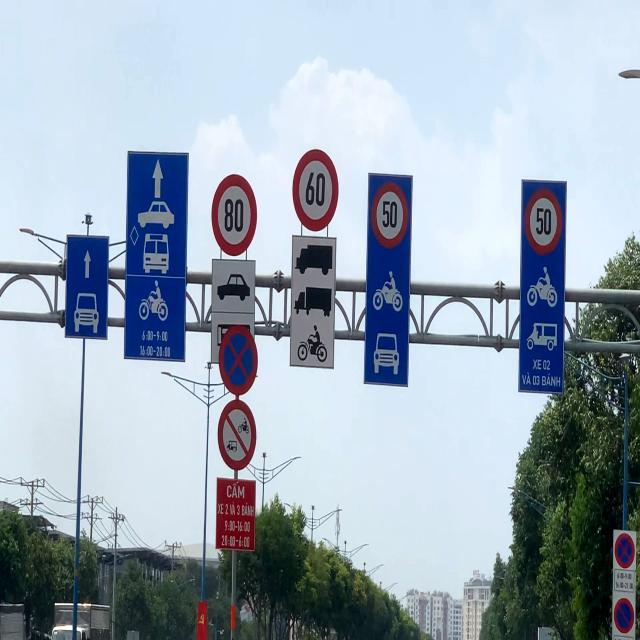P.127: (292, 148, 339, 232), (211, 174, 258, 256), (524, 188, 562, 255), (371, 182, 409, 249)
P.130: (219, 325, 258, 396), (614, 533, 635, 568)
P.131a: (614, 597, 634, 634)
